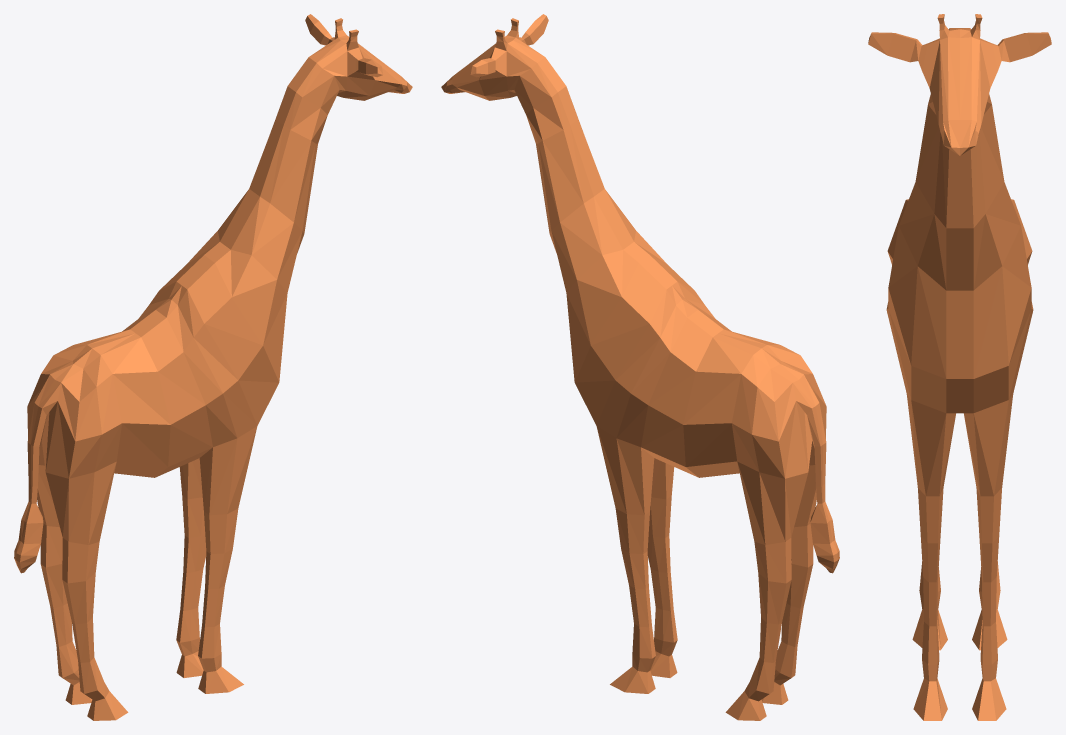
Rendered from giraffe_1.glb.
3 views of the same model, side by side, from view 1: azimuth 30°, elevation 25°; view 2: azimuth 150°, elevation 25°; view 3: azimuth 270°, elevation 25° (orthographic). The views are drawn at different scales.
Parts seen in each view (by area): view 1: jirafa_Material.001_0; view 2: jirafa_Material.001_0; view 3: jirafa_Material.001_0.
Boxes of the visible parts, x1,y1,x2,y2 form: jirafa_Material.001_0: [14, 14, 412, 720]; jirafa_Material.001_0: [441, 14, 839, 720]; jirafa_Material.001_0: [868, 14, 1051, 720].
Size of the model in its own units: 58.65 by 88.33 by 18.95.
